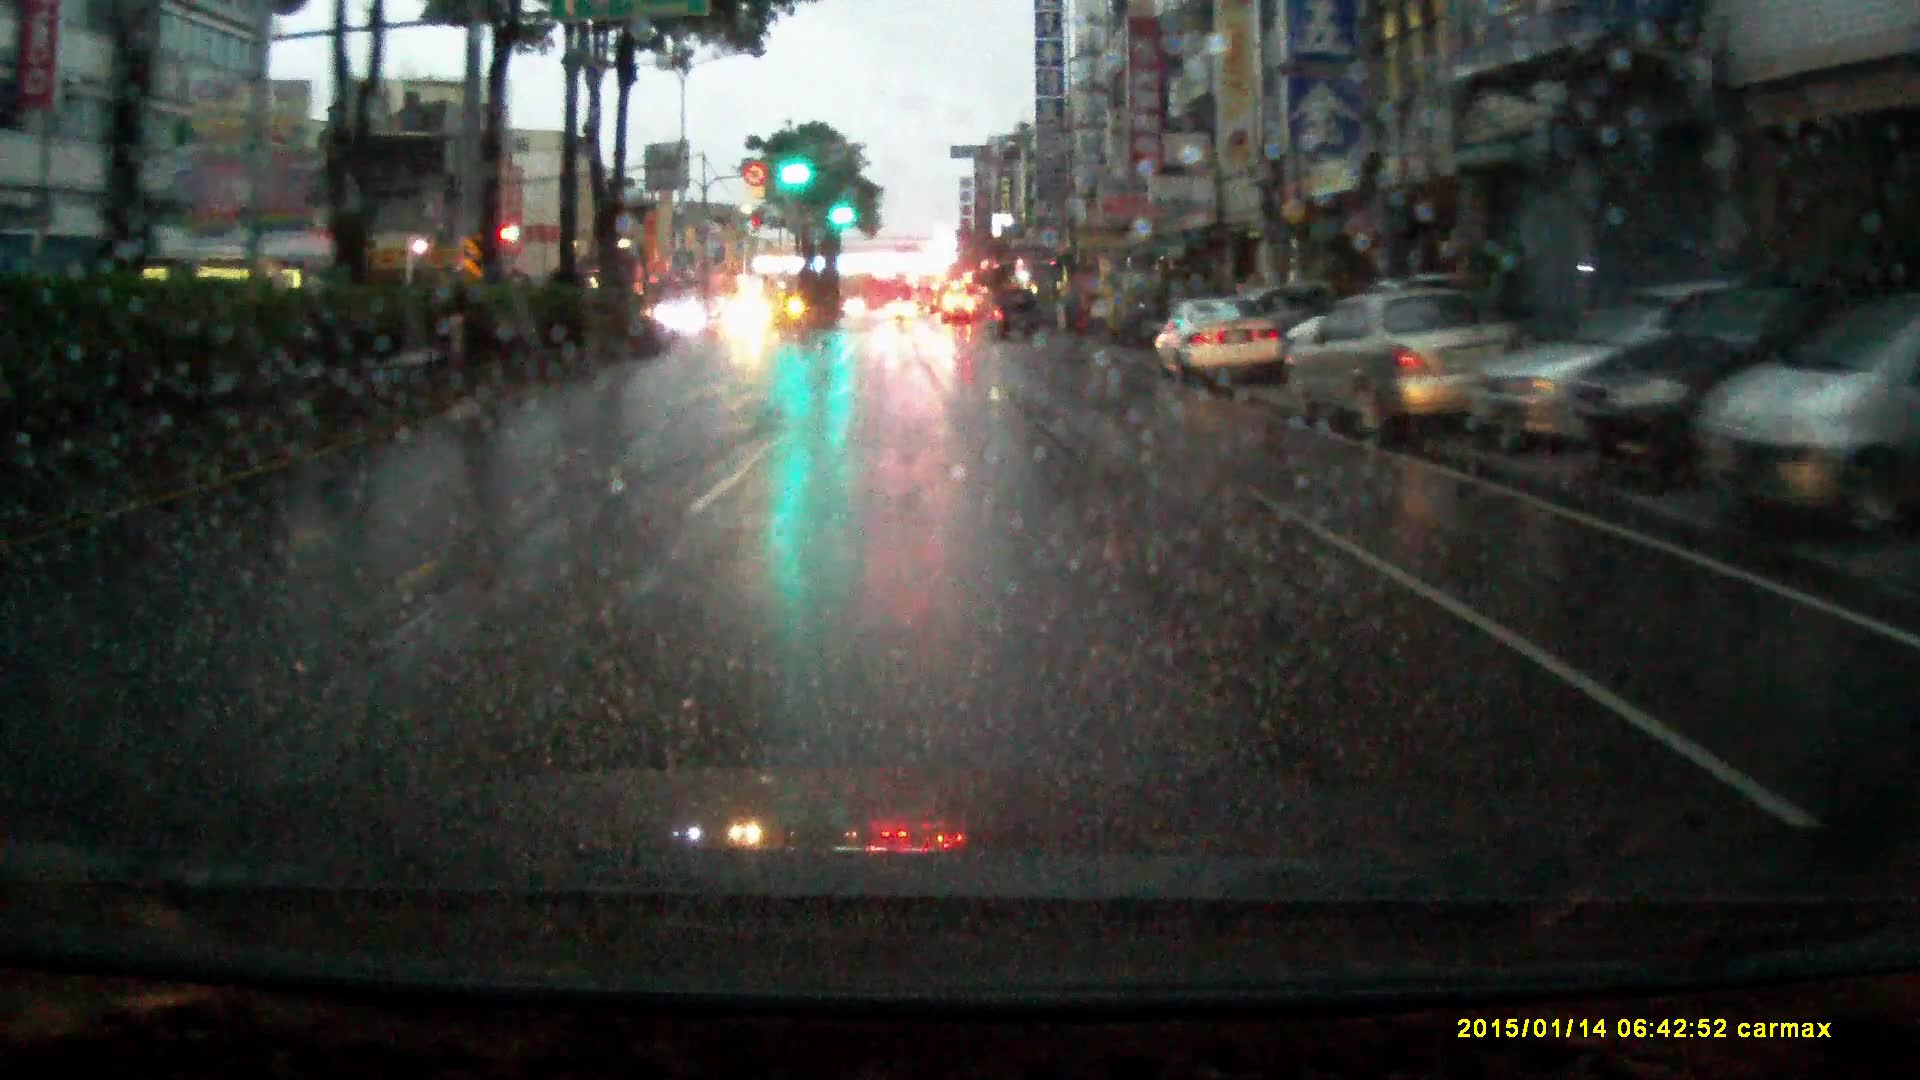vehicle: (1578, 291, 1851, 491), (1712, 328, 1920, 531), (1282, 294, 1540, 446), (1476, 301, 1714, 458), (1153, 291, 1290, 389), (720, 301, 775, 349), (988, 295, 1038, 345), (914, 280, 942, 320), (943, 298, 976, 327), (886, 305, 918, 324)
